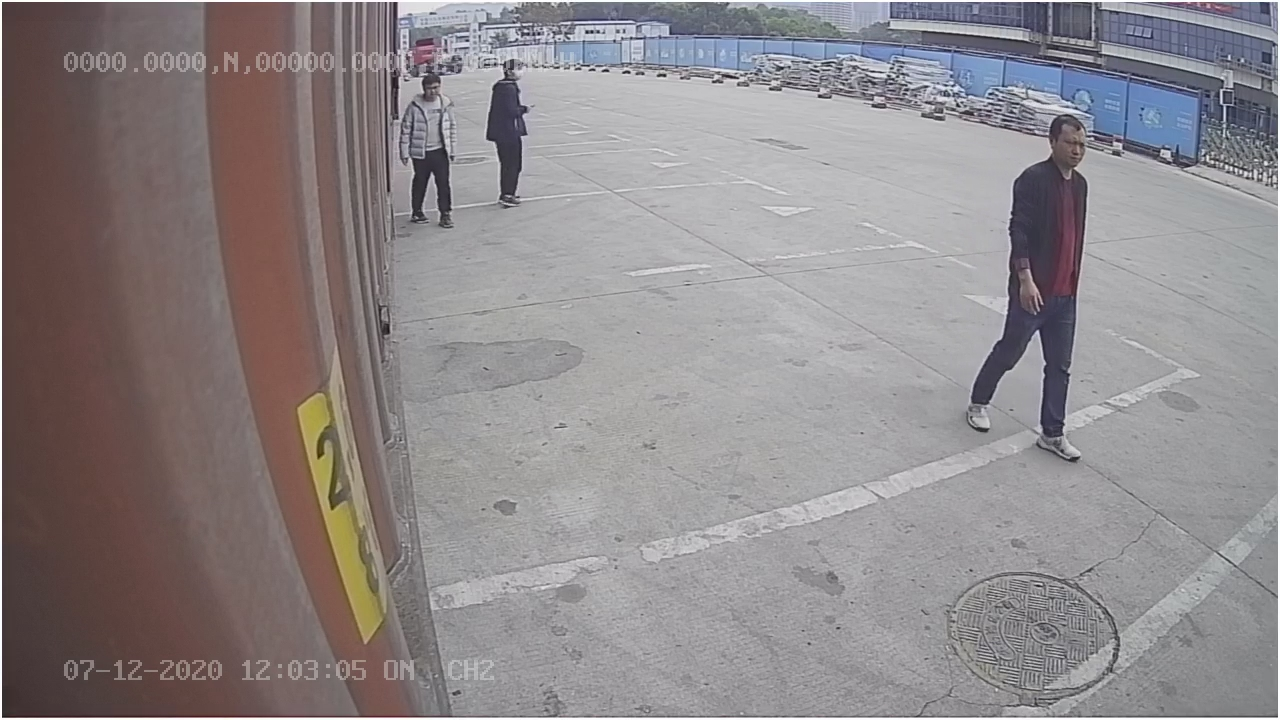person: (965, 106, 1091, 462)
